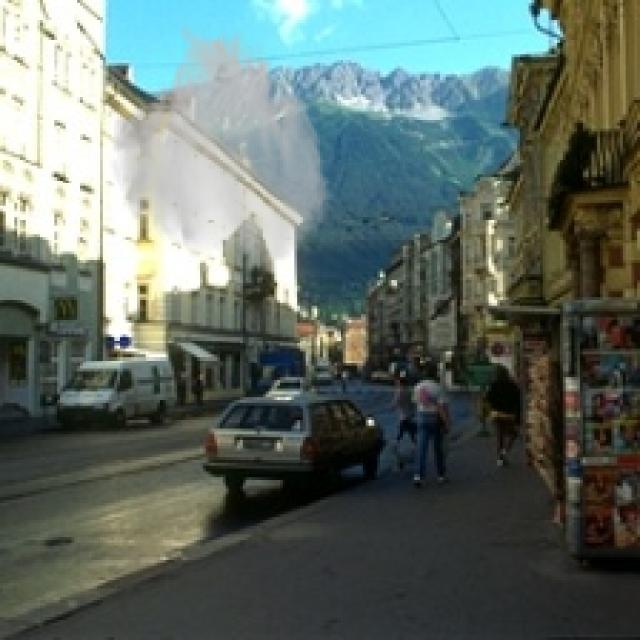smoke: (108, 20, 332, 269)
